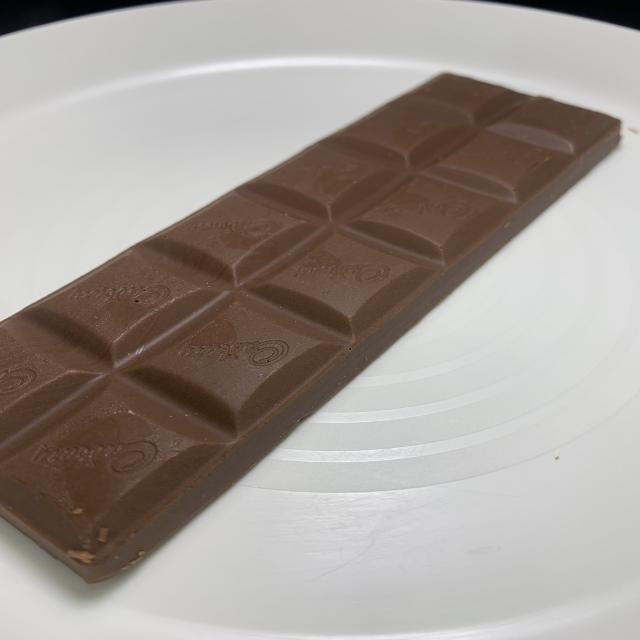Chocolate: (0, 73, 618, 579)
